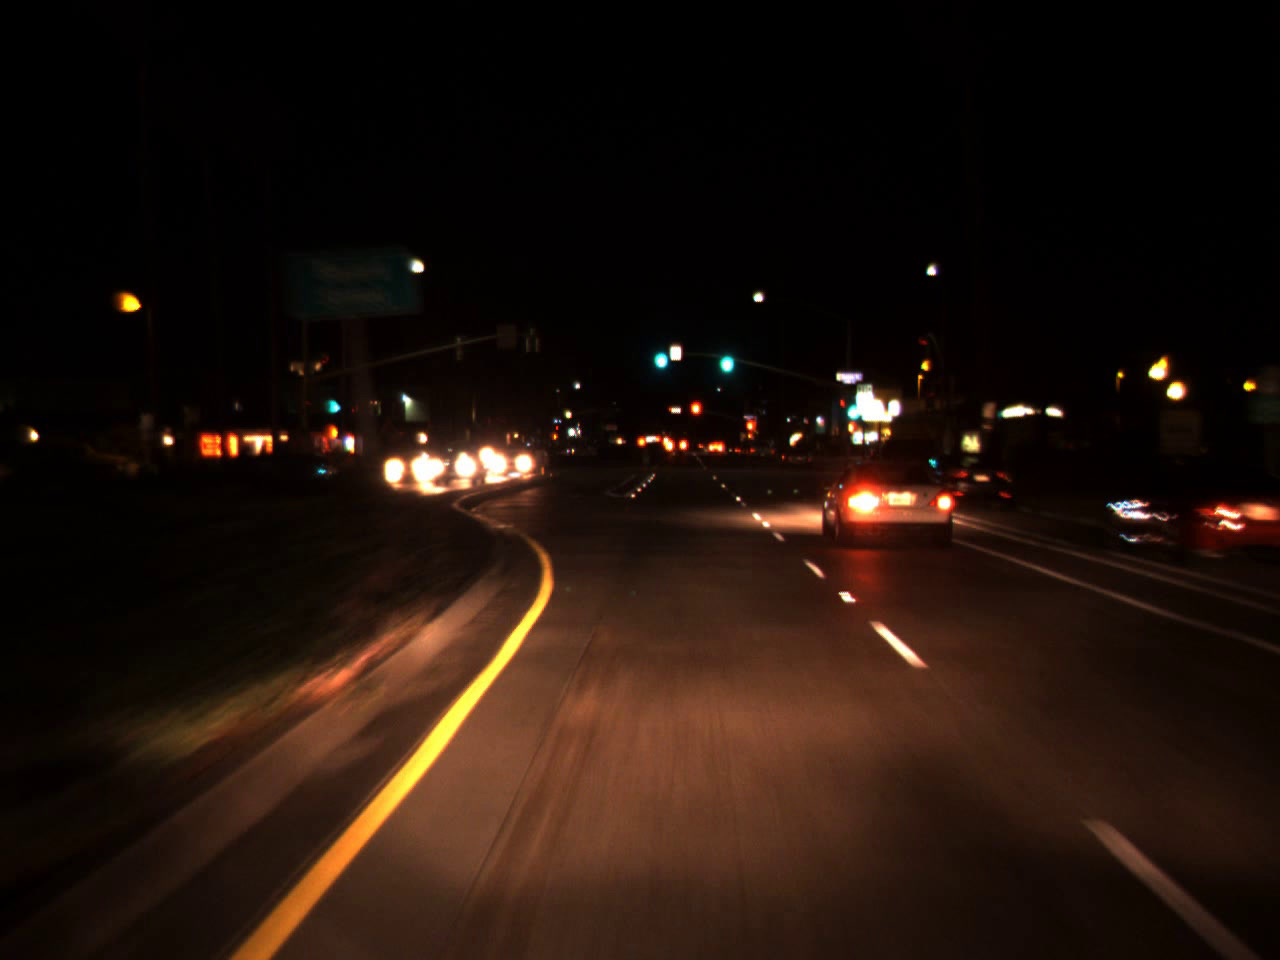go: (713, 334, 736, 379), (650, 334, 669, 373), (841, 389, 857, 425), (327, 387, 337, 417)
stop: (688, 400, 703, 429), (745, 417, 757, 444)
